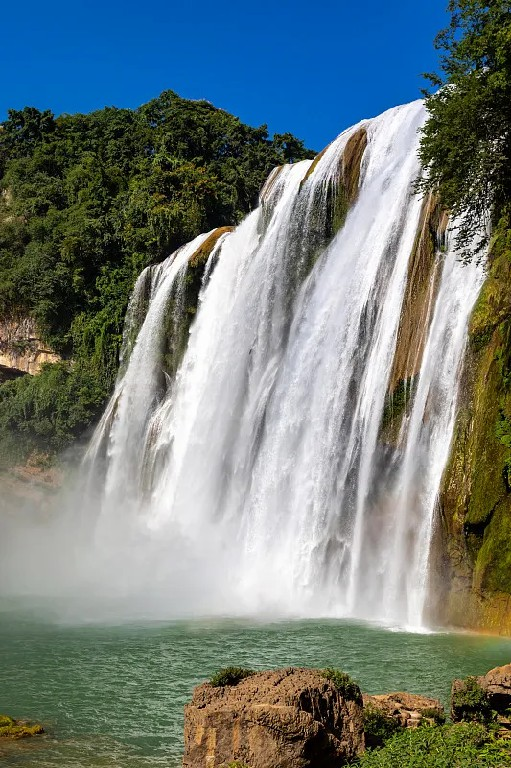Huangguoshu: (95, 80, 488, 626)
